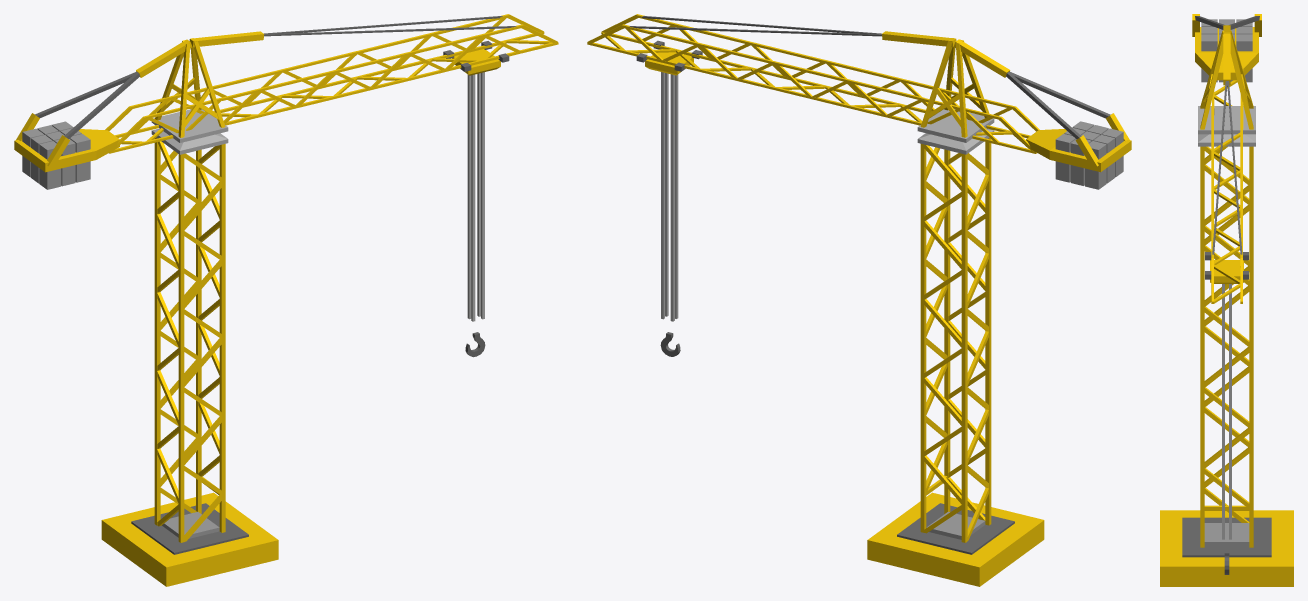
Rendered from Crane.fbx.
3 views of the same model, side by side, from view 1: azimuth 30°, elevation 25°; view 2: azimuth 150°, elevation 25°; view 3: azimuth 270°, elevation 25° (orthographic). The views are drawn at different scales.
Parts seen in each view (by area): view 1: Cube.007, Cube, Cube.014, Cube.003, Cube.002, Cube.004, Cube.001, Cube.005; view 2: Cube.007, Cube, Cube.014, Cube.004, Cube.002, Cube.003, Cube.001, Cube.005; view 3: Cube.007, Cube, Cube.002, Cube.003, Cube.001, Cube.005, Cube.004, Cube.014.
Part boxes in pixels (x1=…): Cube.007: x1=14, y1=14, x2=558, y2=189; Cube: x1=101, y1=492, x2=278, y2=586; Cube.014: x1=467, y1=72, x2=484, y2=321; Cube.003: x1=154, y1=281, x2=225, y2=388; Cube.002: x1=154, y1=360, x2=225, y2=466; Cube.004: x1=154, y1=203, x2=225, y2=309; Cube.001: x1=154, y1=438, x2=225, y2=542; Cube.005: x1=154, y1=137, x2=225, y2=231; Cube.007: x1=587, y1=14, x2=1131, y2=189; Cube: x1=867, y1=492, x2=1044, y2=586; Cube.014: x1=661, y1=72, x2=678, y2=321; Cube.004: x1=920, y1=205, x2=991, y2=309; Cube.002: x1=920, y1=361, x2=991, y2=466; Cube.003: x1=920, y1=283, x2=991, y2=388; Cube.001: x1=920, y1=439, x2=991, y2=542; Cube.005: x1=920, y1=137, x2=991, y2=231; Cube.007: x1=1192, y1=14, x2=1261, y2=303; Cube: x1=1160, y1=510, x2=1293, y2=586; Cube.002: x1=1200, y1=366, x2=1253, y2=468; Cube.003: x1=1200, y1=285, x2=1253, y2=387; Cube.001: x1=1200, y1=447, x2=1253, y2=547; Cube.005: x1=1200, y1=146, x2=1253, y2=226; Cube.004: x1=1200, y1=205, x2=1253, y2=307; Cube.014: x1=1222, y1=284, x2=1231, y2=539.
Size of the model in its own units: 2787 by 2603 by 600.
